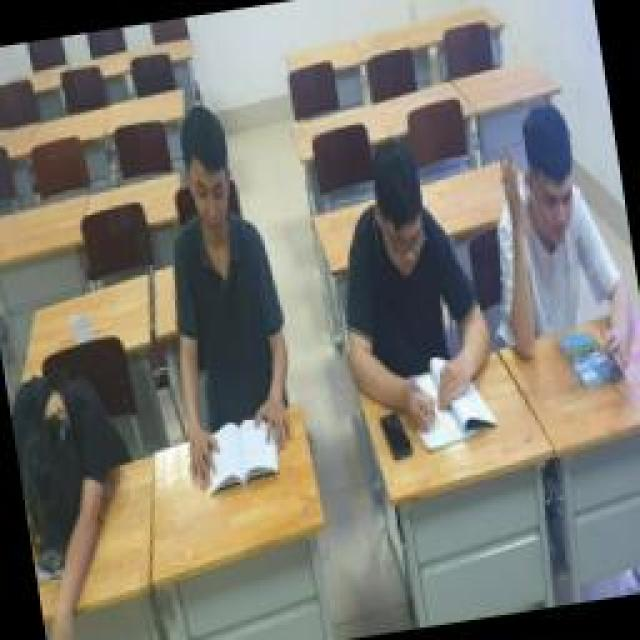sleep: (5, 365, 150, 640)
study: (133, 102, 305, 478), (320, 135, 500, 427), (470, 95, 640, 385)
